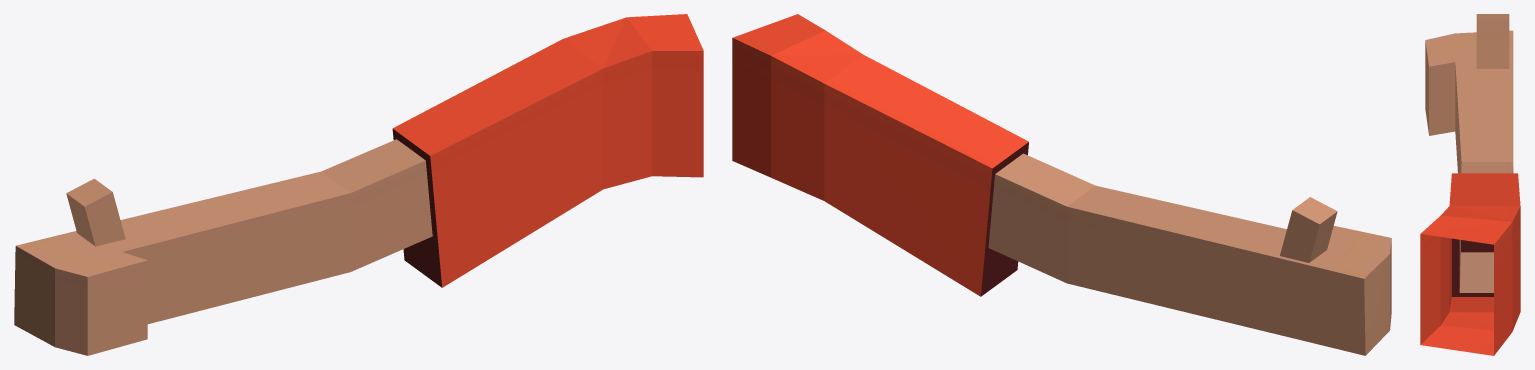
Rendered from hitchhiker.FBX.
3 views of the same model, side by side, from view 1: azimuth 30°, elevation 25°; view 2: azimuth 150°, elevation 25°; view 3: azimuth 270°, elevation 25° (orthographic). The views are drawn at different scales.
Parts seen in each view (by area): view 1: hitchhiker; view 2: hitchhiker; view 3: hitchhiker.
Part boxes in pixels (x1,y1,x2,y2): hitchhiker: [14, 14, 703, 355]; hitchhiker: [732, 14, 1391, 355]; hitchhiker: [1420, 14, 1520, 355].
Bounding box in the file's own units: 1089 × 162 × 302.
